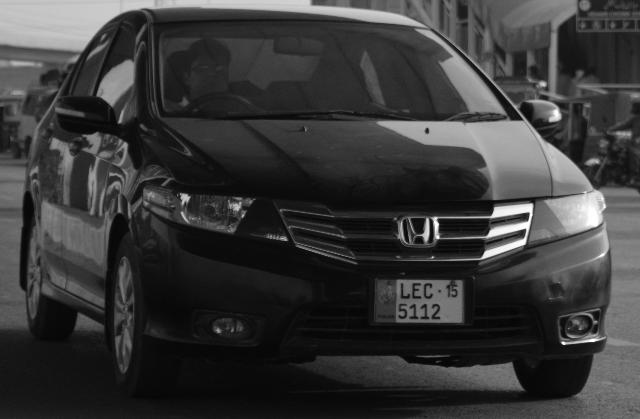Number: (397, 282, 449, 320)
